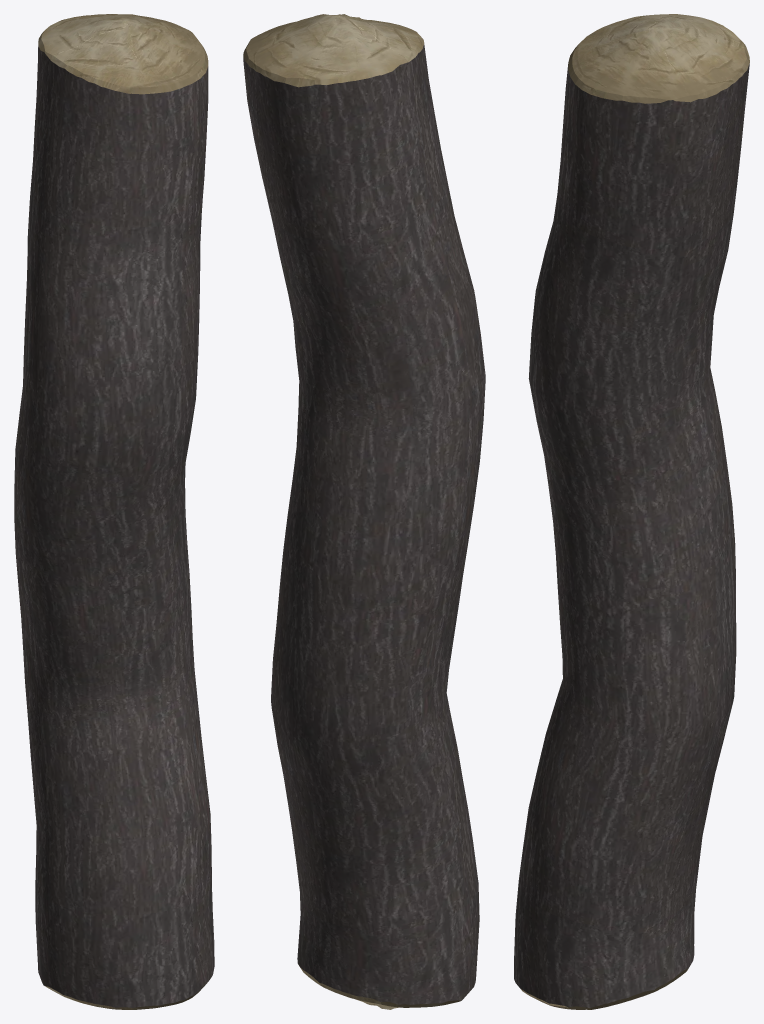
The picture shows the model from 3 angles, left to right: view 1: azimuth 30°, elevation 25°; view 2: azimuth 150°, elevation 25°; view 3: azimuth 270°, elevation 25°; orthographic projection. The views are drawn at different scales.
Visible parts, largest first — view 1: SM_BM_Oak_Tree_02_half_mid_LOD0; view 2: SM_BM_Oak_Tree_02_half_mid_LOD0; view 3: SM_BM_Oak_Tree_02_half_mid_LOD0.
Boxes of the visible parts, bbox=[...] form: SM_BM_Oak_Tree_02_half_mid_LOD0: bbox=[14, 14, 214, 1009]; SM_BM_Oak_Tree_02_half_mid_LOD0: bbox=[243, 14, 485, 1009]; SM_BM_Oak_Tree_02_half_mid_LOD0: bbox=[514, 14, 749, 1009].
Bounding box in the file's own units: 1.13 × 5.48 × 1.19.
1 material, 1 textured.
